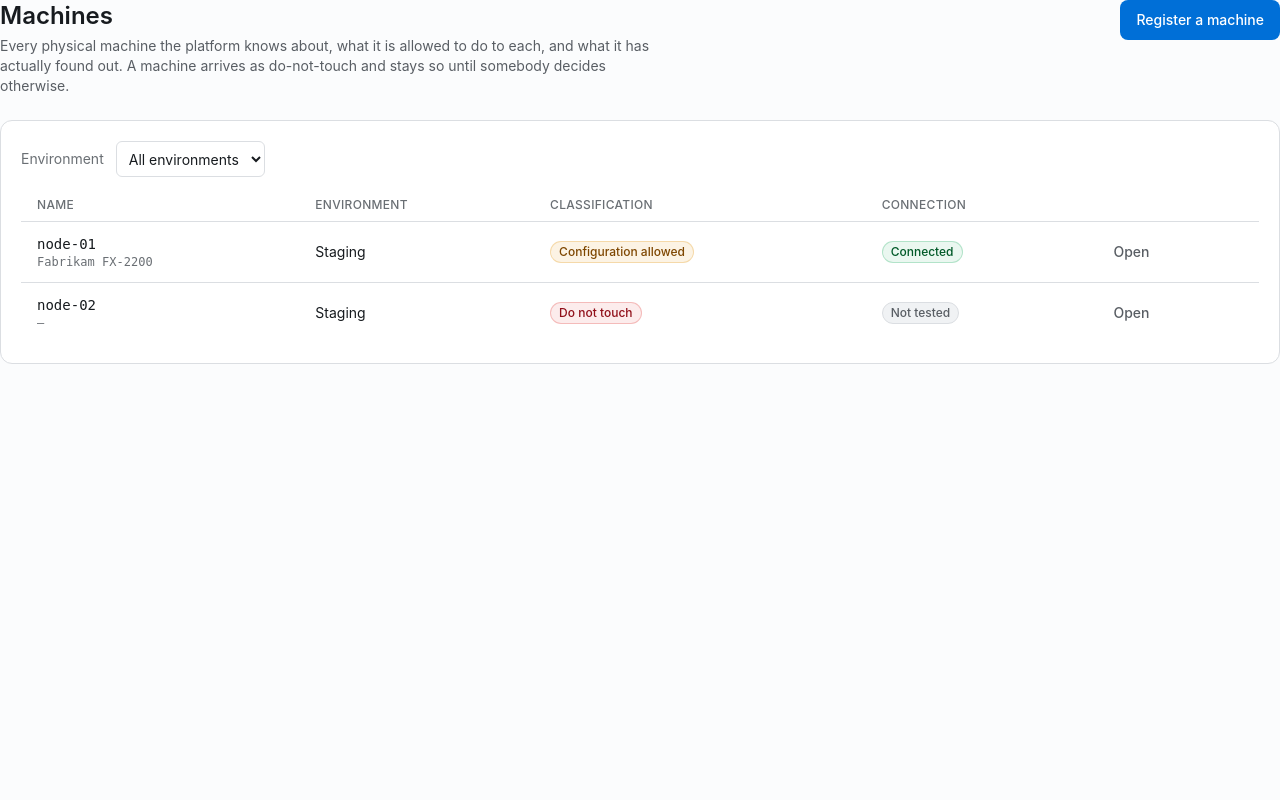
Test: ServersPage › shows classification and connection as words, and says a machine was never classified
The width and height of the screenshot is (1280, 800).
expect the text "Do not touch" is shown: met, box [550,302,642,324]
expect the text "Not tested" is shown: met, box [882,302,959,324]
What coordinates should you click on to do the following:
click the button "Open" in the row of "node-02"
I would click on:
 (1131, 313)
Its box is [1101,297,1161,329].
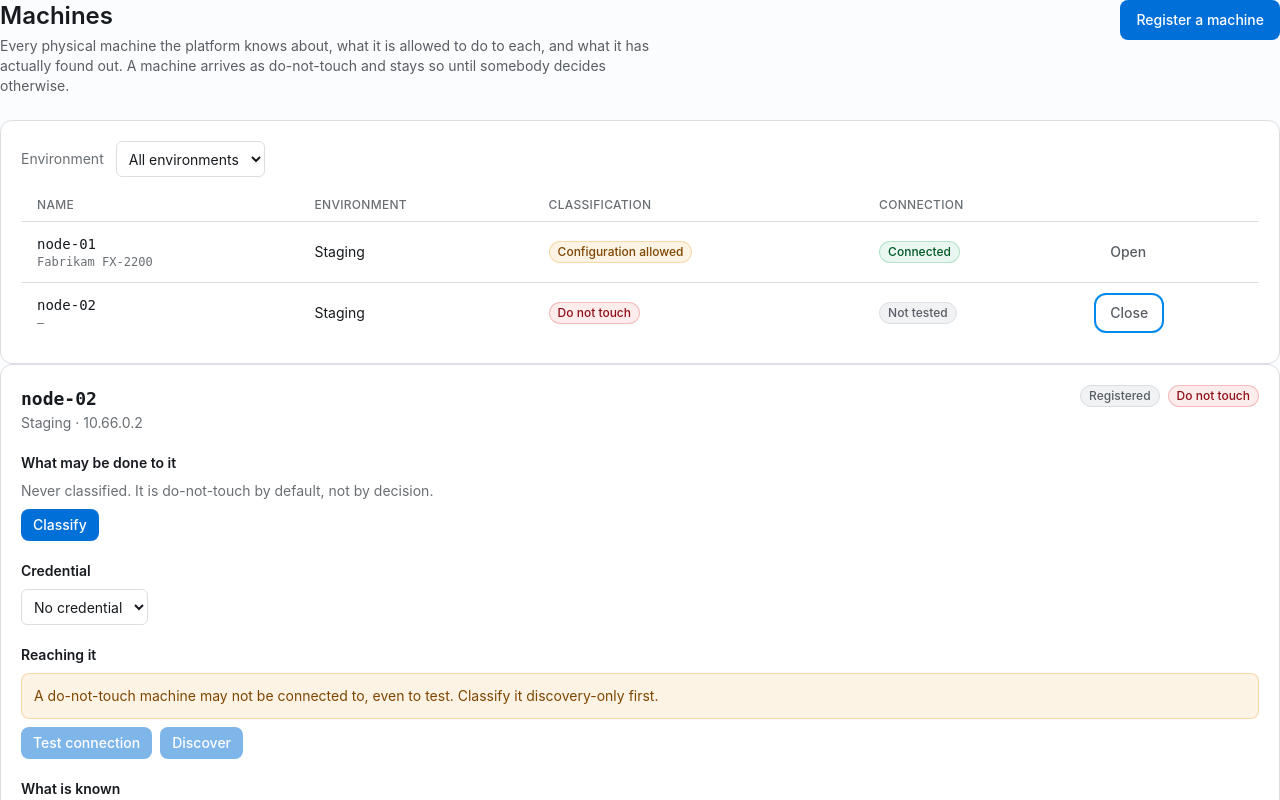
expect the text "Never classified" is shown: met, box [21,482,433,499]
